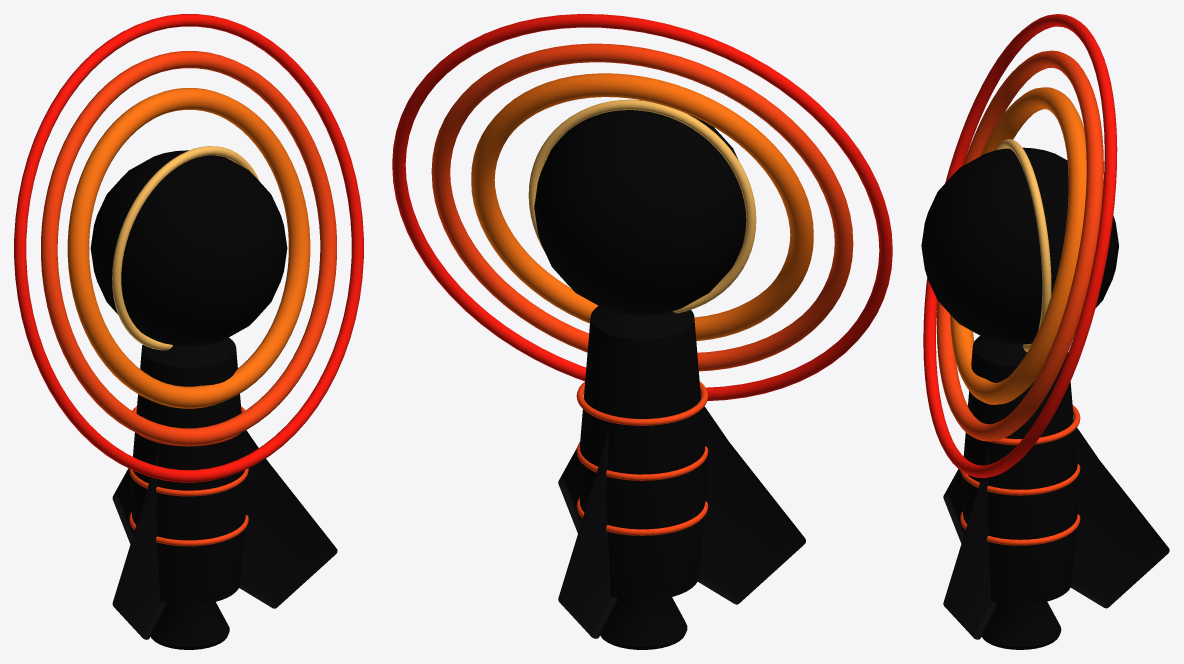
Rendered from Rocket_38_BlackHole.obj.
3 views of the same model, side by side, from view 1: azimuth 30°, elevation 25°; view 2: azimuth 150°, elevation 25°; view 3: azimuth 270°, elevation 25° (orthographic). The views are drawn at different scales.
Parts seen in each view (by area): view 1: R38_Singularity, R38_Body, R38_AccretionDisk_2, R38_AccretionDisk, R38_AccretionDisk_3, R38_Fin_3, R38_Fin_2, R38_PhotonRing, R38_Nozzle, R38_Fin, R38_Band_2, R38_Band; view 2: R38_Singularity, R38_Body, R38_AccretionDisk_2, R38_AccretionDisk, R38_AccretionDisk_3, R38_Fin_2, R38_Fin, R38_PhotonRing, R38_Nozzle, R38_Band_3, R38_Fin_3, R38_Band_2 (+1 smaller); view 3: R38_Singularity, R38_Body, R38_AccretionDisk_2, R38_AccretionDisk_3, R38_AccretionDisk, R38_Fin, R38_Fin_3, R38_Nozzle, R38_PhotonRing, R38_Fin_2, R38_Band_2, R38_Band (+1 smaller).
Boxes of the visible parts, x1,y1,x2,y2 form: R38_Singularity: (90, 150, 287, 346); R38_Body: (130, 337, 247, 604); R38_AccretionDisk_2: (41, 51, 336, 445); R38_AccretionDisk: (67, 88, 310, 408); R38_AccretionDisk_3: (14, 14, 363, 482); R38_Fin_3: (239, 430, 337, 608); R38_Fin_2: (112, 448, 167, 639); R38_PhotonRing: (112, 146, 259, 350); R38_Nozzle: (150, 602, 229, 649); R38_Fin: (112, 468, 133, 543); R38_Band_2: (129, 468, 248, 496); R38_Band: (129, 512, 248, 546); R38_Singularity: (534, 100, 746, 315); R38_Body: (577, 306, 707, 600); R38_AccretionDisk_2: (431, 43, 853, 371); R38_AccretionDisk: (471, 73, 813, 341); R38_AccretionDisk_3: (392, 14, 892, 400); R38_Fin_2: (697, 406, 805, 604); R38_Fin: (558, 428, 618, 638); R38_PhotonRing: (528, 99, 756, 313); R38_Nozzle: (600, 597, 687, 649); R38_Band_3: (576, 381, 708, 425); R38_Fin_3: (558, 448, 581, 533); R38_Band_2: (576, 441, 708, 480); R38_Singularity: (921, 147, 1118, 344); R38_Body: (961, 336, 1079, 604); R38_AccretionDisk_2: (936, 50, 1103, 441); R38_AccretionDisk_3: (923, 14, 1117, 477); R38_AccretionDisk: (950, 87, 1086, 404); R38_Fin: (1070, 428, 1169, 608); R38_Fin_3: (943, 447, 998, 639); R38_Nozzle: (981, 601, 1061, 649); R38_PhotonRing: (996, 139, 1051, 351); R38_Fin_2: (943, 469, 964, 543); R38_Band_2: (960, 464, 1080, 495); R38_Band: (960, 511, 1080, 545).
Size of the model in its own units: 5.78 by 8.24 by 3.14.
